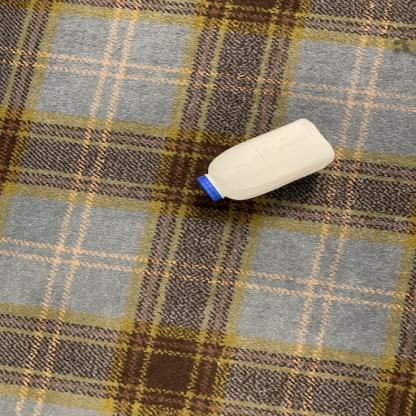trash: (194, 117, 340, 206)
